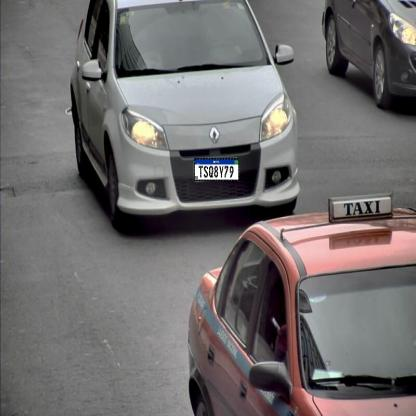PlacaM: (194, 158, 239, 181)
